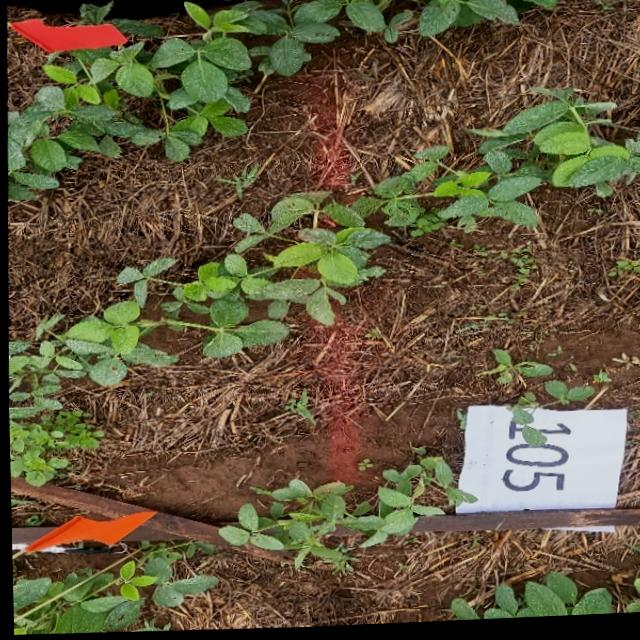caruru_weed: (7, 412, 99, 485), (499, 253, 534, 297), (281, 392, 312, 427), (606, 264, 640, 281), (354, 461, 369, 476)
grassy_weed: (220, 165, 257, 200)
soy_plant: (6, 93, 640, 394), (6, 0, 555, 180), (216, 452, 471, 574), (447, 570, 640, 625), (12, 575, 139, 634), (140, 551, 213, 608), (476, 353, 549, 388), (506, 397, 543, 453), (116, 562, 153, 601), (542, 385, 591, 410), (10, 579, 34, 612), (87, 575, 109, 589)
